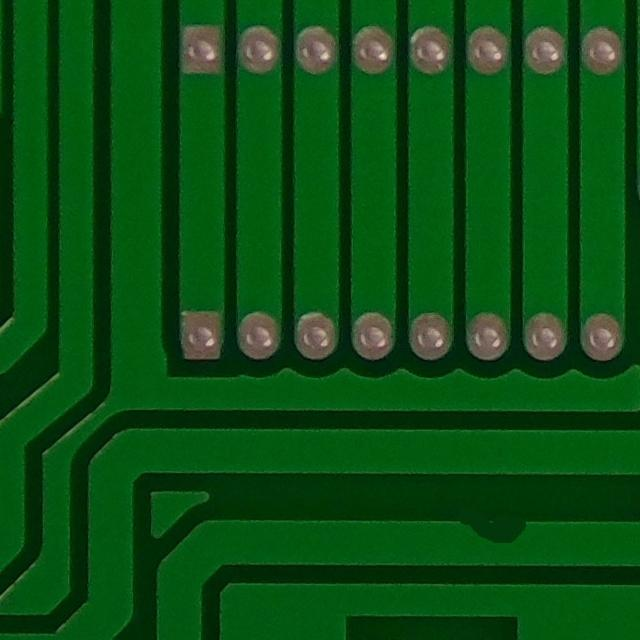mouse_bite: (446, 495, 553, 575)
